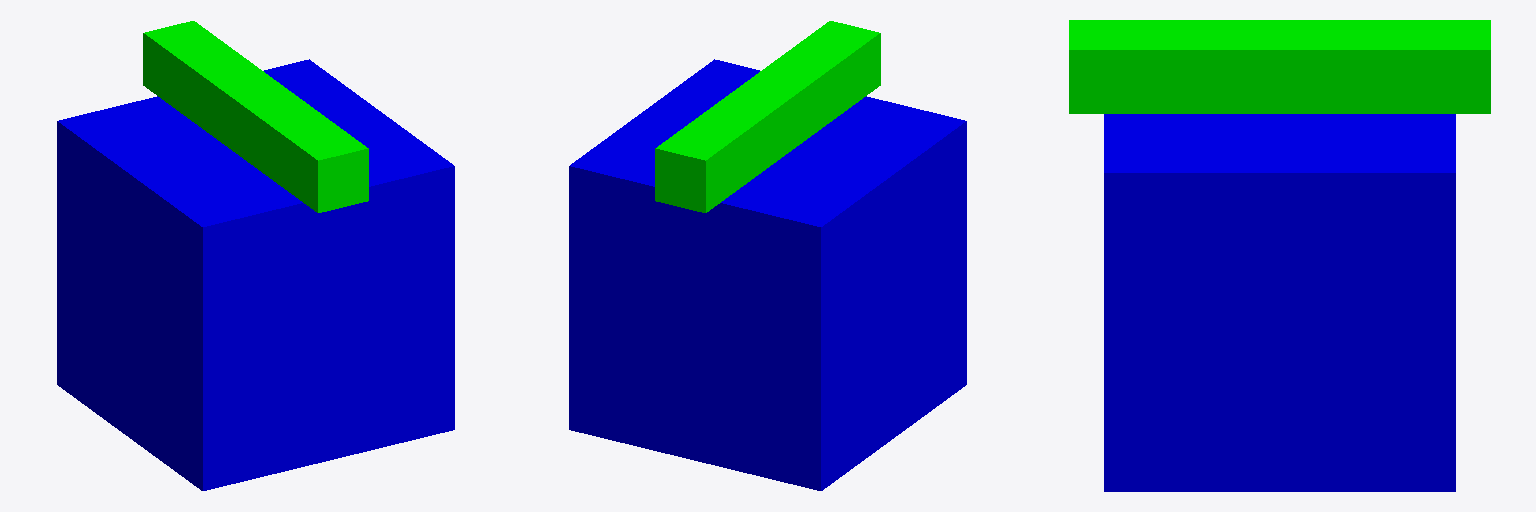
The robot description file, URDF, robot "simple_robot":
<?xml version="1.0"?>
<robot name="simple_robot">

  <!-- Definición del primer enlace: un cubo (base) -->
  <link name="base_link">
    <inertial>
     <origin xyz="0 0 0.1" />
      <mass value="1000.0"/> <!-- Masa del cubo en kg -->
      <inertia ixx="83.333" ixy="0" ixz="0" iyy="83.333" iyz="0" izz="83.333"/> <!-- Tensor de inercia simplificado -->
    </inertial>
    <visual>
     <origin xyz="0 0 0.1" />
      <geometry>
        <box size="0.5 0.5 0.5"/> <!-- Dimensiones visuales del cubo -->
      </geometry>
      <material name="blue">
        <color rgba="0 0 1 1"/> <!-- Color visual del cubo -->
      </material>
    </visual>
    <collision>
     <origin xyz="0 0 0.1" />
      <geometry>
        <box size="0.5 0.5 0.5"/> <!-- Dimensiones de colisión del cubo -->
      </geometry>
    </collision>
  </link>

  <!-- Definición del segundo enlace: una pieza deslizante -->
  <link name="sliding_part">
    <visual>
      <origin rpy="0 0 0" xyz="0 0 -0.1" />
      <geometry>
        <box size="0.1 0.6 0.1"/> <!-- Dimensiones visuales de la pieza deslizante -->
      </geometry>
      <material name="green">
        <color rgba="0 1 0 1"/> <!-- Color visual de la pieza deslizante -->
      </material>
    </visual>
    <collision>
    <origin rpy="0 0 0" xyz="0 0 -0.1" />
      <geometry>      
        <box size="0.1 0.6 0.1"/> <!-- Dimensiones de colisión de la pieza deslizante -->
      </geometry>
    </collision>
    
  </link>

  <!-- Definición de la articulación prismática que permite el deslizamiento de la pieza deslizante -->
  <joint name="base_to_sliding_part_joint" type="prismatic">
    <parent link="base_link"/>
    <child link="sliding_part"/>
    <origin xyz="0 0 0.5" rpy="0 0 0"/> <!-- Posiciona la pieza deslizante encima del cubo -->
    <axis xyz="0 1  0"/> <!-- Eje de deslizamiento: a lo largo del eje Y -->
    <limit lower="-0.5" upper="0.5" effort="500" velocity="0.5"/> <!-- Límites del deslizamiento -->
  </joint>

</robot>

--- Facts derived from the render (not from the file) ---
3 views of the same robot in one strip: view 1: azimuth 30°, elevation 25°; view 2: azimuth 150°, elevation 25°; view 3: azimuth 270°, elevation 25° (orthographic).
Robot: simple_robot — 2 links, 1 joints (1 prismatic); root link base_link; default pose: every joint at zero.
Links seen in each view (by area): view 1: base_link, sliding_part; view 2: base_link, sliding_part; view 3: base_link, sliding_part.
Boxes of the visible links, x1,y1,x2,y2 form: base_link: (57,59,454,490); sliding_part: (143,21,368,212); base_link: (569,59,966,490); sliding_part: (655,21,880,212); base_link: (1104,114,1455,491); sliding_part: (1069,20,1490,113).
Size in the robot's own frame: 0.5 by 0.6 by 0.6 metres.
Geometry: primitives only (box / cylinder / sphere), no mesh files.